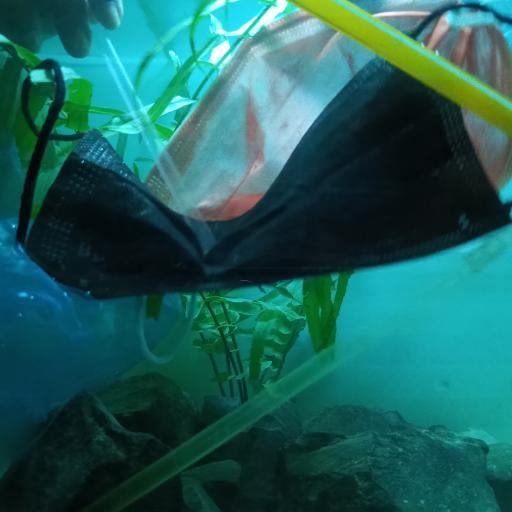mask: (14, 1, 512, 300), (151, 0, 512, 205), (0, 218, 187, 466)
plastic_straw: (73, 232, 512, 512), (290, 0, 512, 133)
